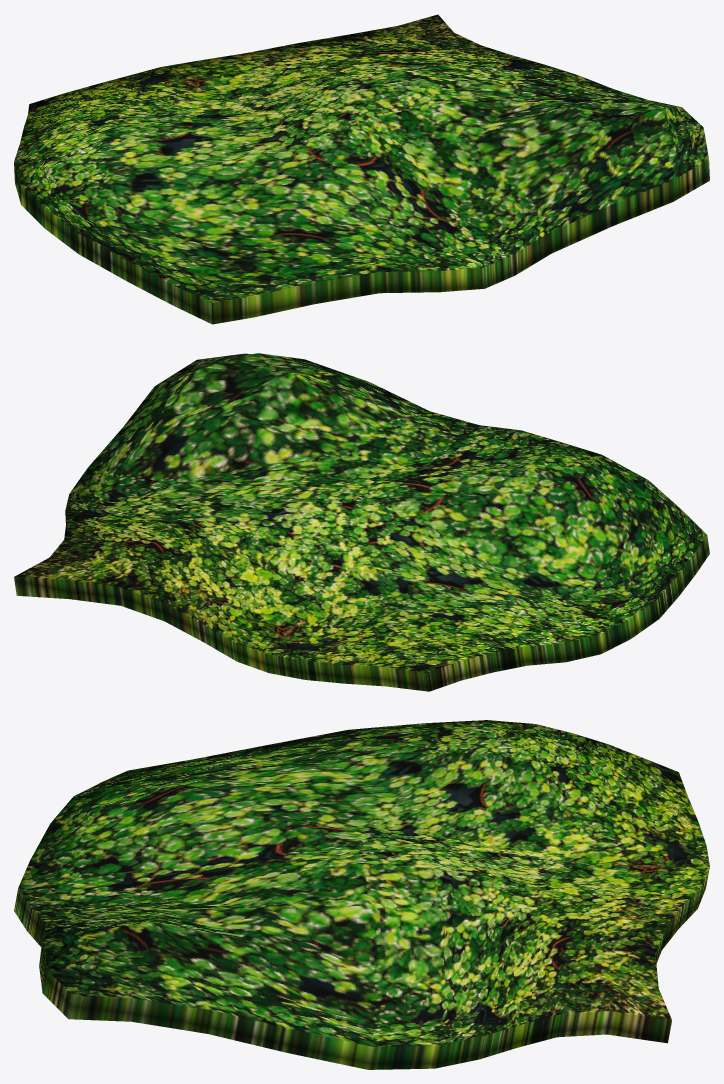
The model's file is yertuzakcali (5).fbx.
The picture shows the model from 3 angles, top to bottom: view 1: azimuth 30°, elevation 25°; view 2: azimuth 150°, elevation 25°; view 3: azimuth 270°, elevation 25°; orthographic projection. The views are drawn at different scales.
Parts seen in each view (by area): view 1: tuzakcali; view 2: tuzakcali; view 3: tuzakcali.
Boxes of the visible parts, box(x1,y1,x2,y2) form: tuzakcali: box(14, 14, 709, 324); tuzakcali: box(14, 353, 709, 691); tuzakcali: box(14, 720, 709, 1069).
Size of the model in its own units: 316 by 48.4 by 286.
